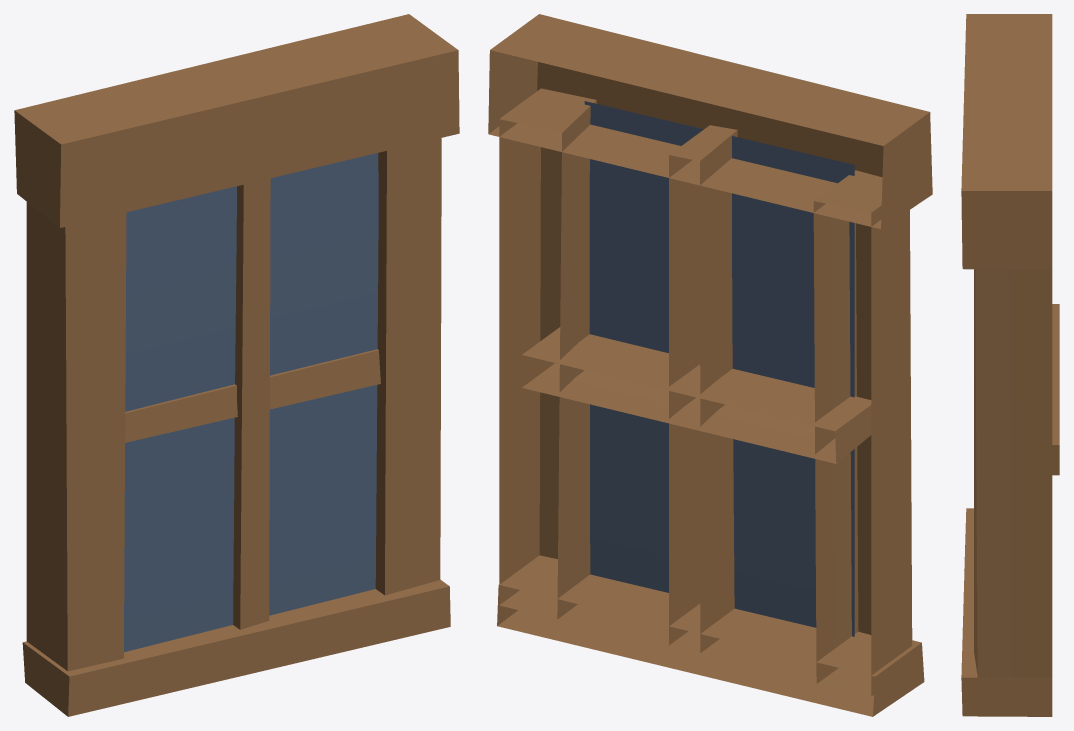
File: House_Window_G.fbx
3 views of the same model, side by side, from view 1: azimuth 30°, elevation 25°; view 2: azimuth 150°, elevation 25°; view 3: azimuth 270°, elevation 25° (orthographic). The views are drawn at different scales.
Parts seen in each view (by area): view 1: House_Window_G; view 2: House_Window_G; view 3: House_Window_G.
Part boxes in pixels (x1,y1,x2,y2): House_Window_G: (14,14,459,716); House_Window_G: (488,14,932,716); House_Window_G: (961,14,1059,716).
Bounding box in the file's own units: 90.31 × 125 × 20.98.
